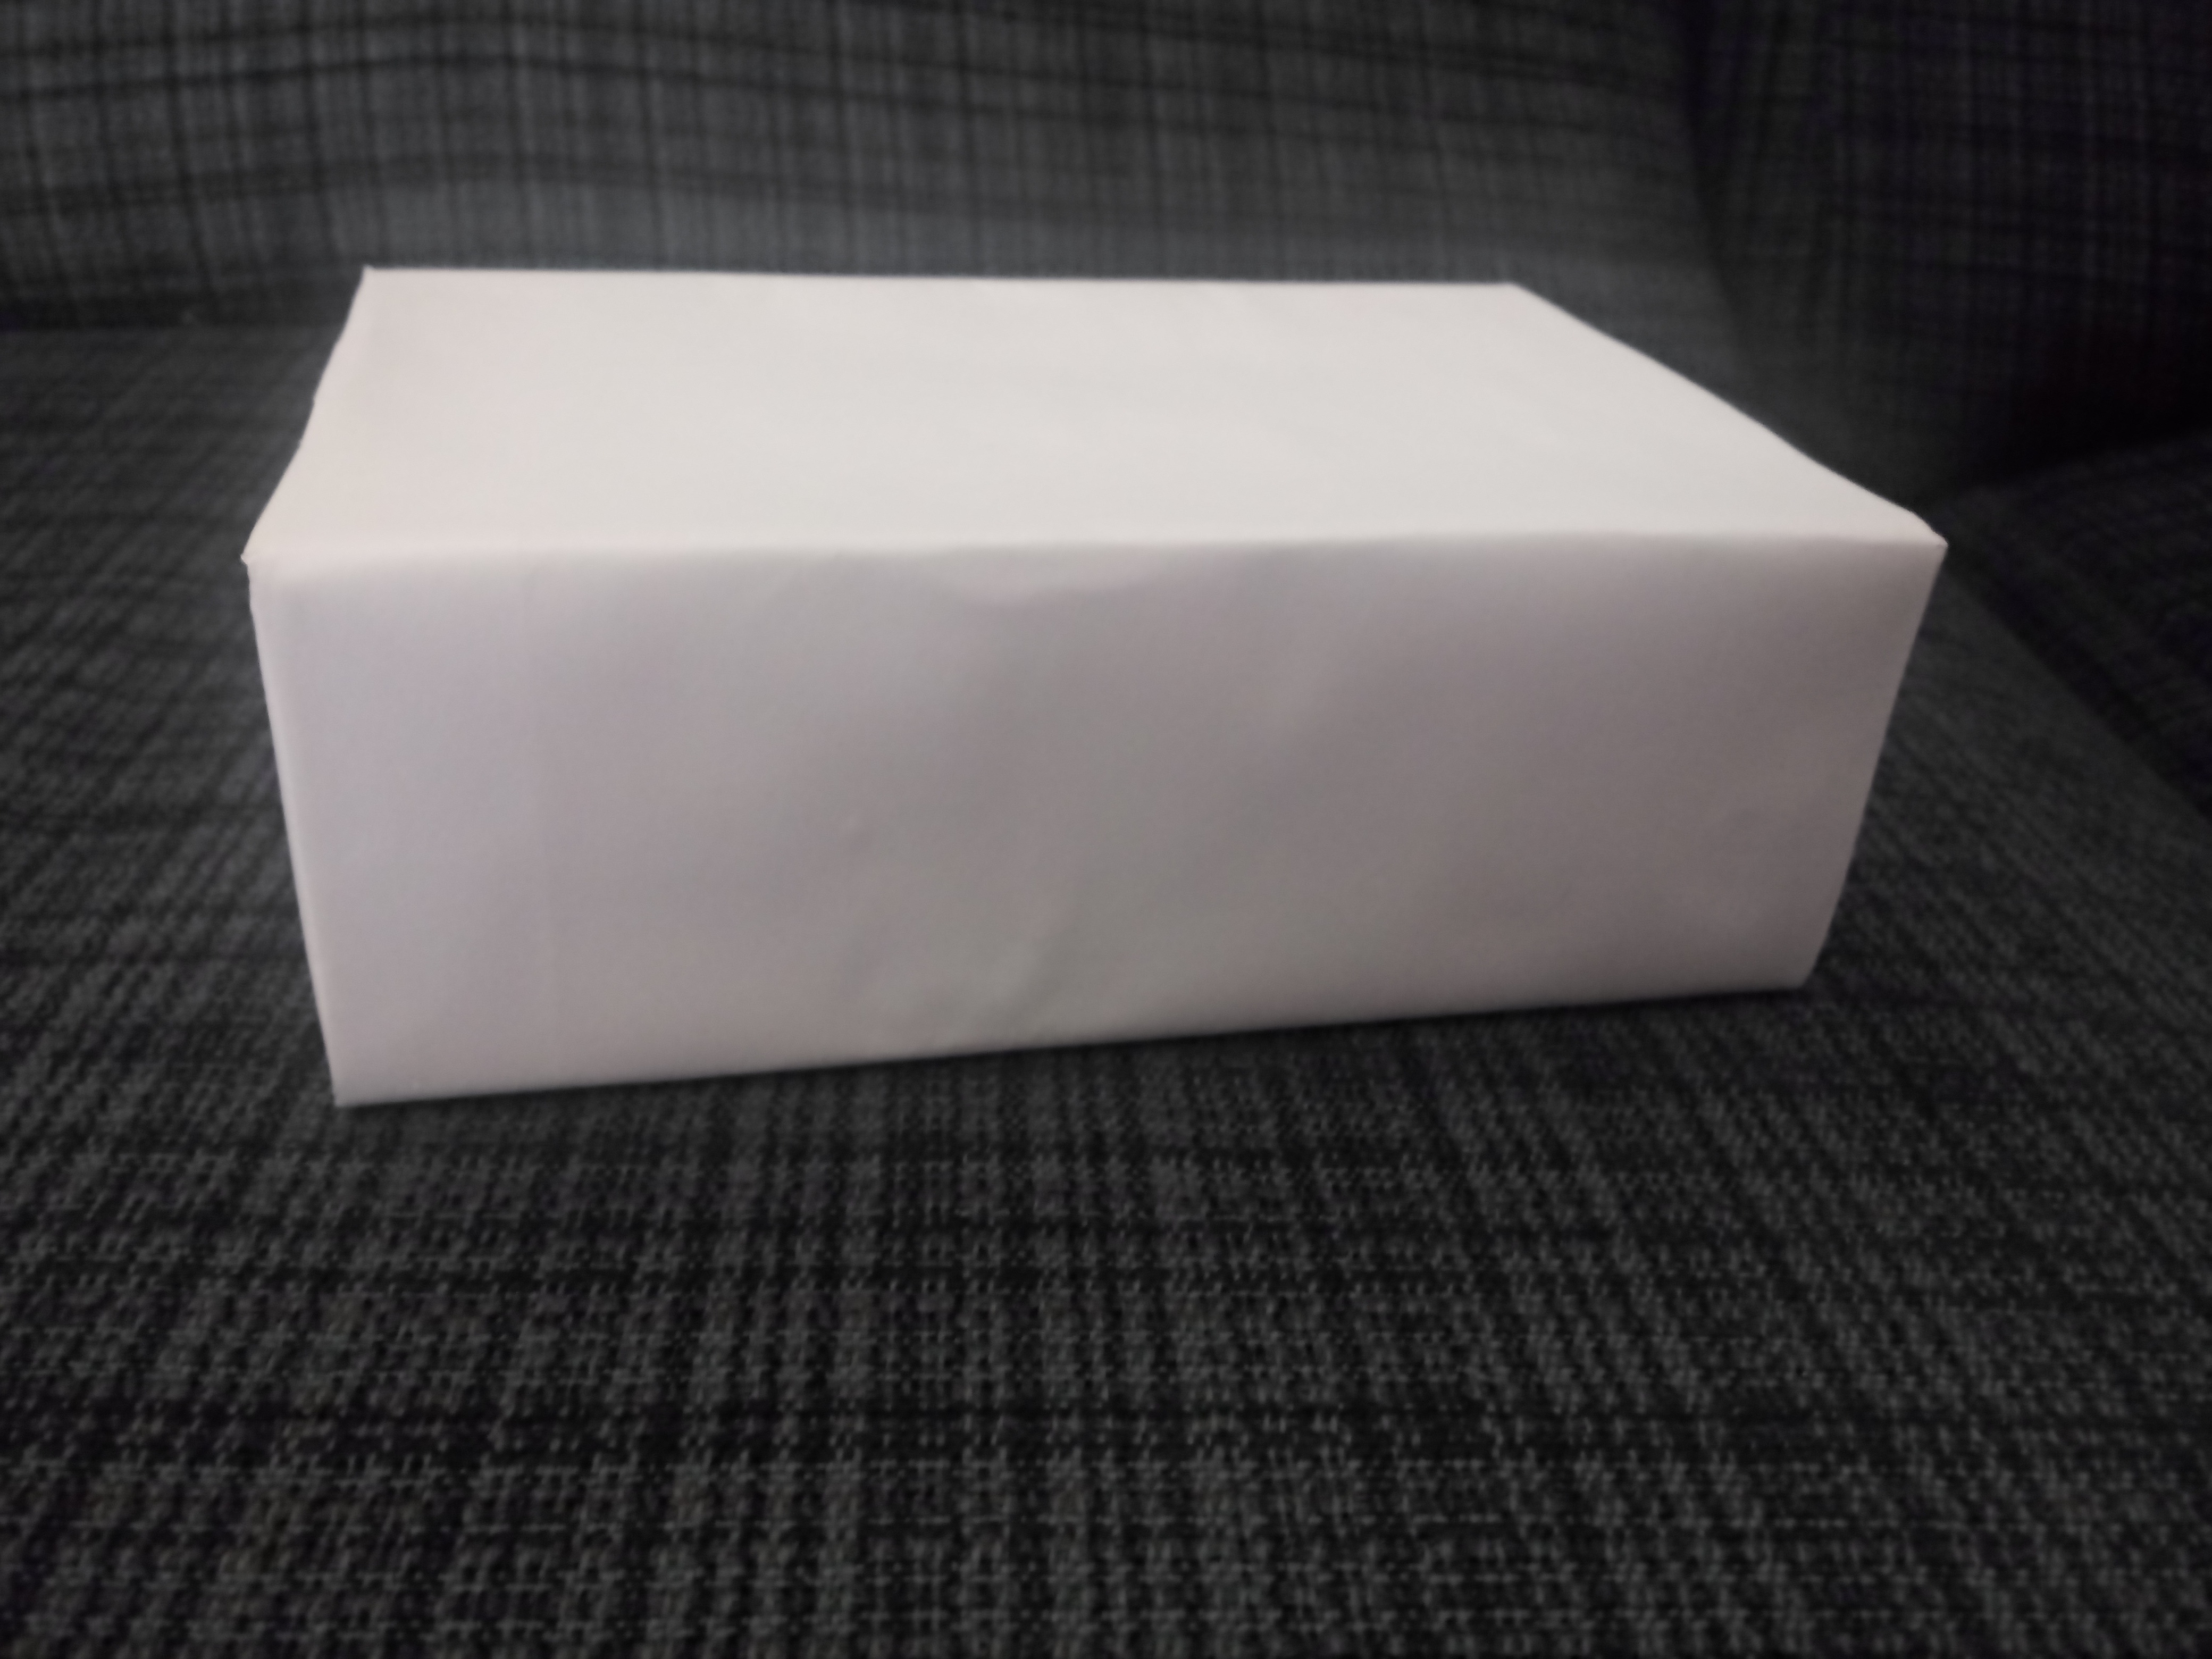white_box: (181, 192, 1956, 1140)
